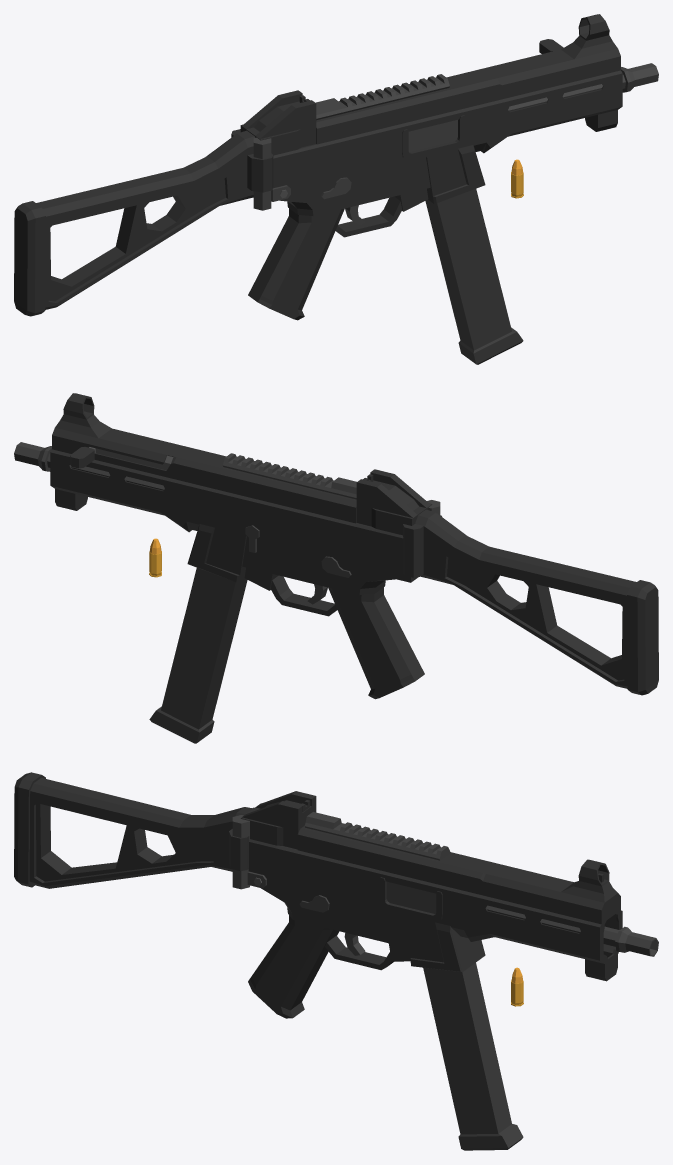
Rendered from UMP45.fbx.
3 renders of one model, top to bottom at view 1: azimuth 30°, elevation 25°; view 2: azimuth 150°, elevation 25°; view 3: azimuth 330°, elevation 25°, orthographic.
Visible parts, largest first — view 1: UMP45, Mag; view 2: UMP45, Mag; view 3: UMP45, Mag.
Boxes of the visible parts, box(x1,y1,x2,y2) form: UMP45: box(14, 14, 658, 320); Mag: box(425, 189, 523, 364); UMP45: box(14, 393, 658, 699); Mag: box(149, 568, 247, 743); UMP45: box(14, 772, 658, 1018); Mag: box(423, 963, 523, 1150).
Bounding box in the file's own units: 765 × 362 × 89.42.
Materials: 1 (1 with a texture image).
